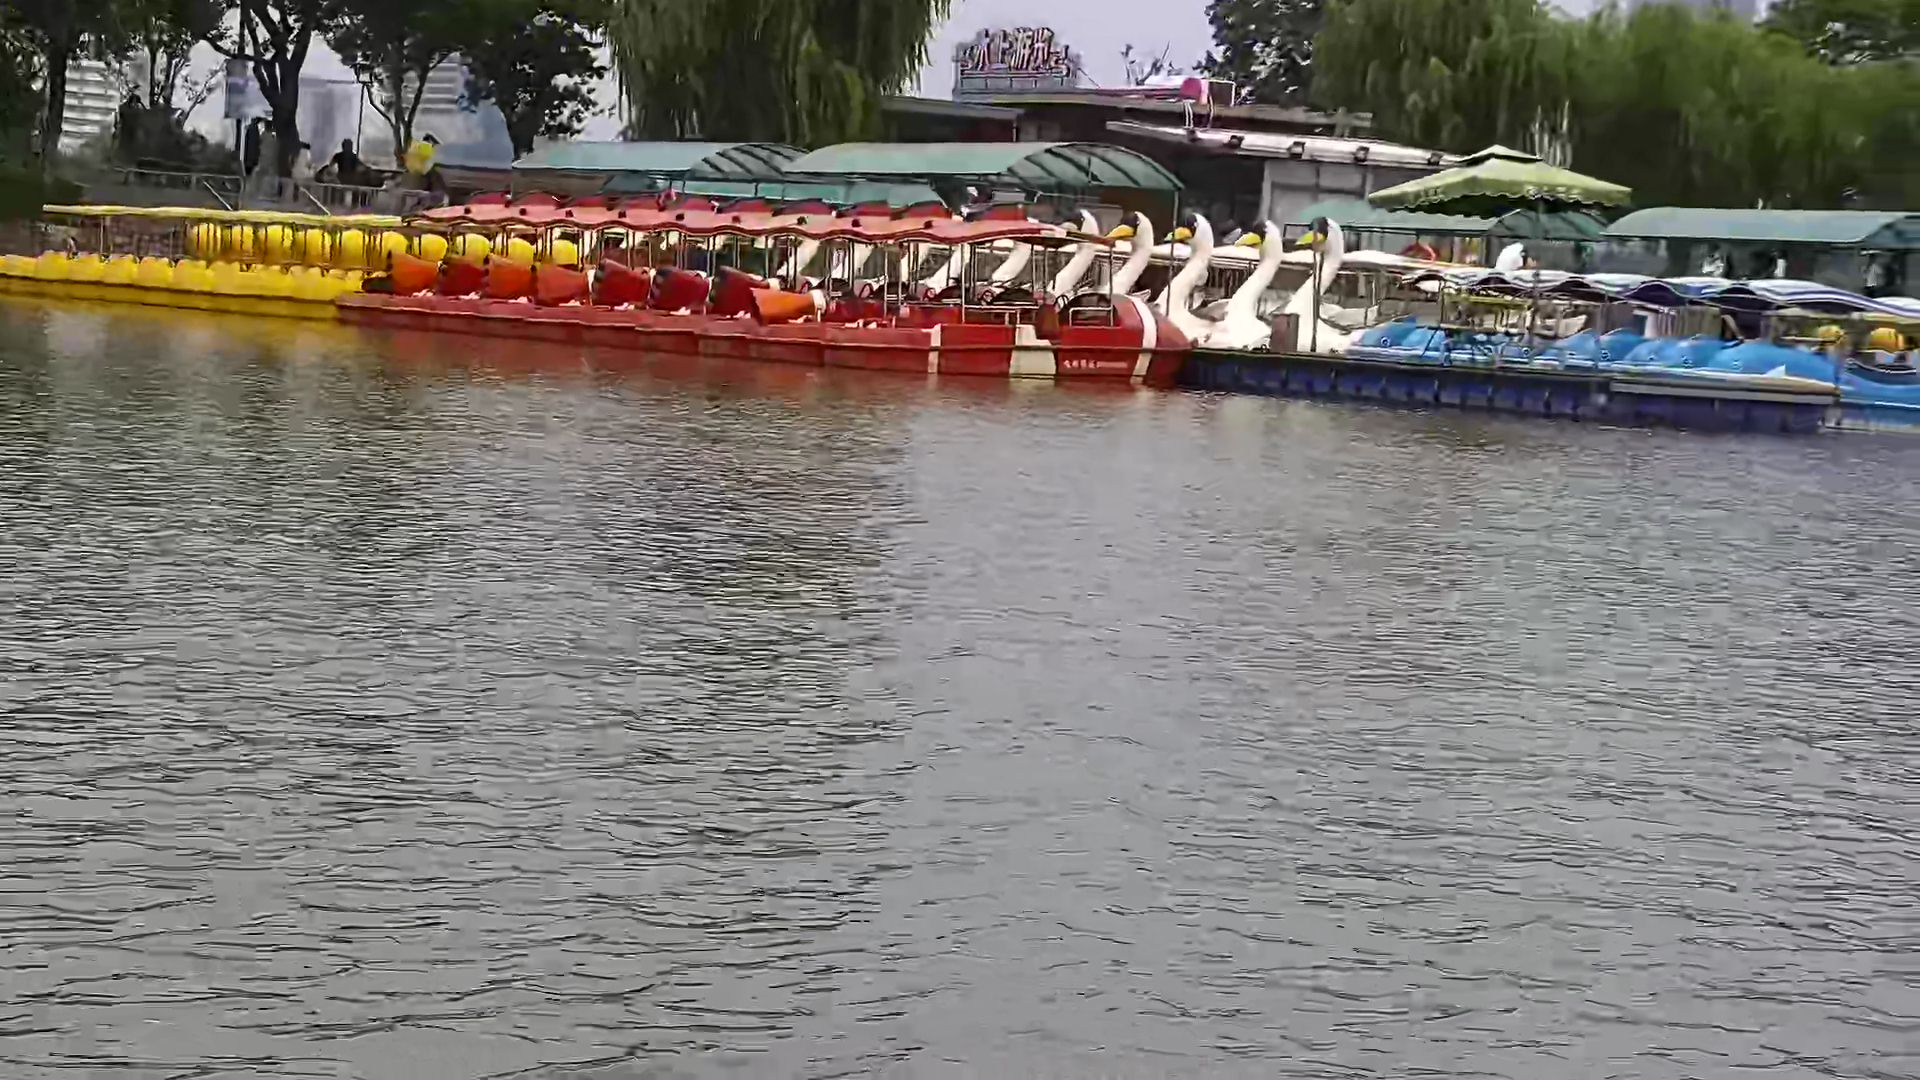harbor: (24, 109, 1863, 419)
